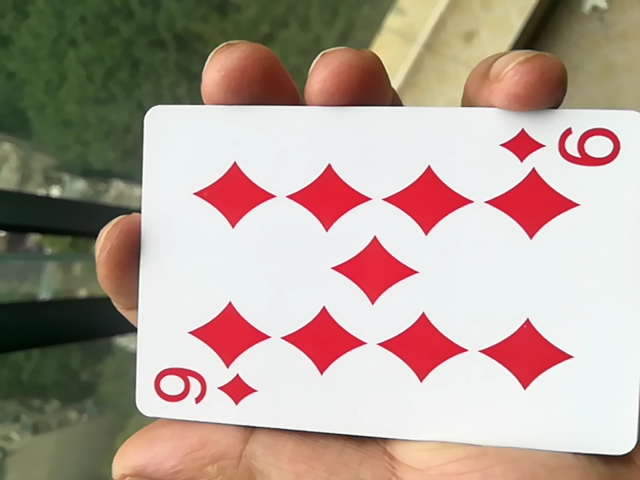fk 9: (122, 110, 638, 459)
